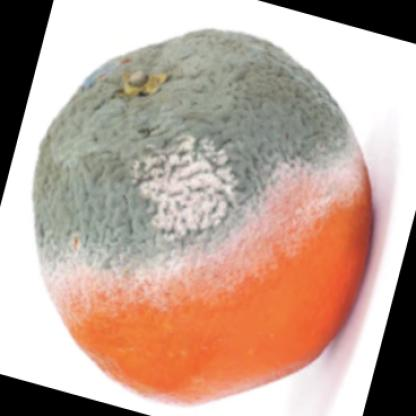rotten: (35, 29, 372, 403)
